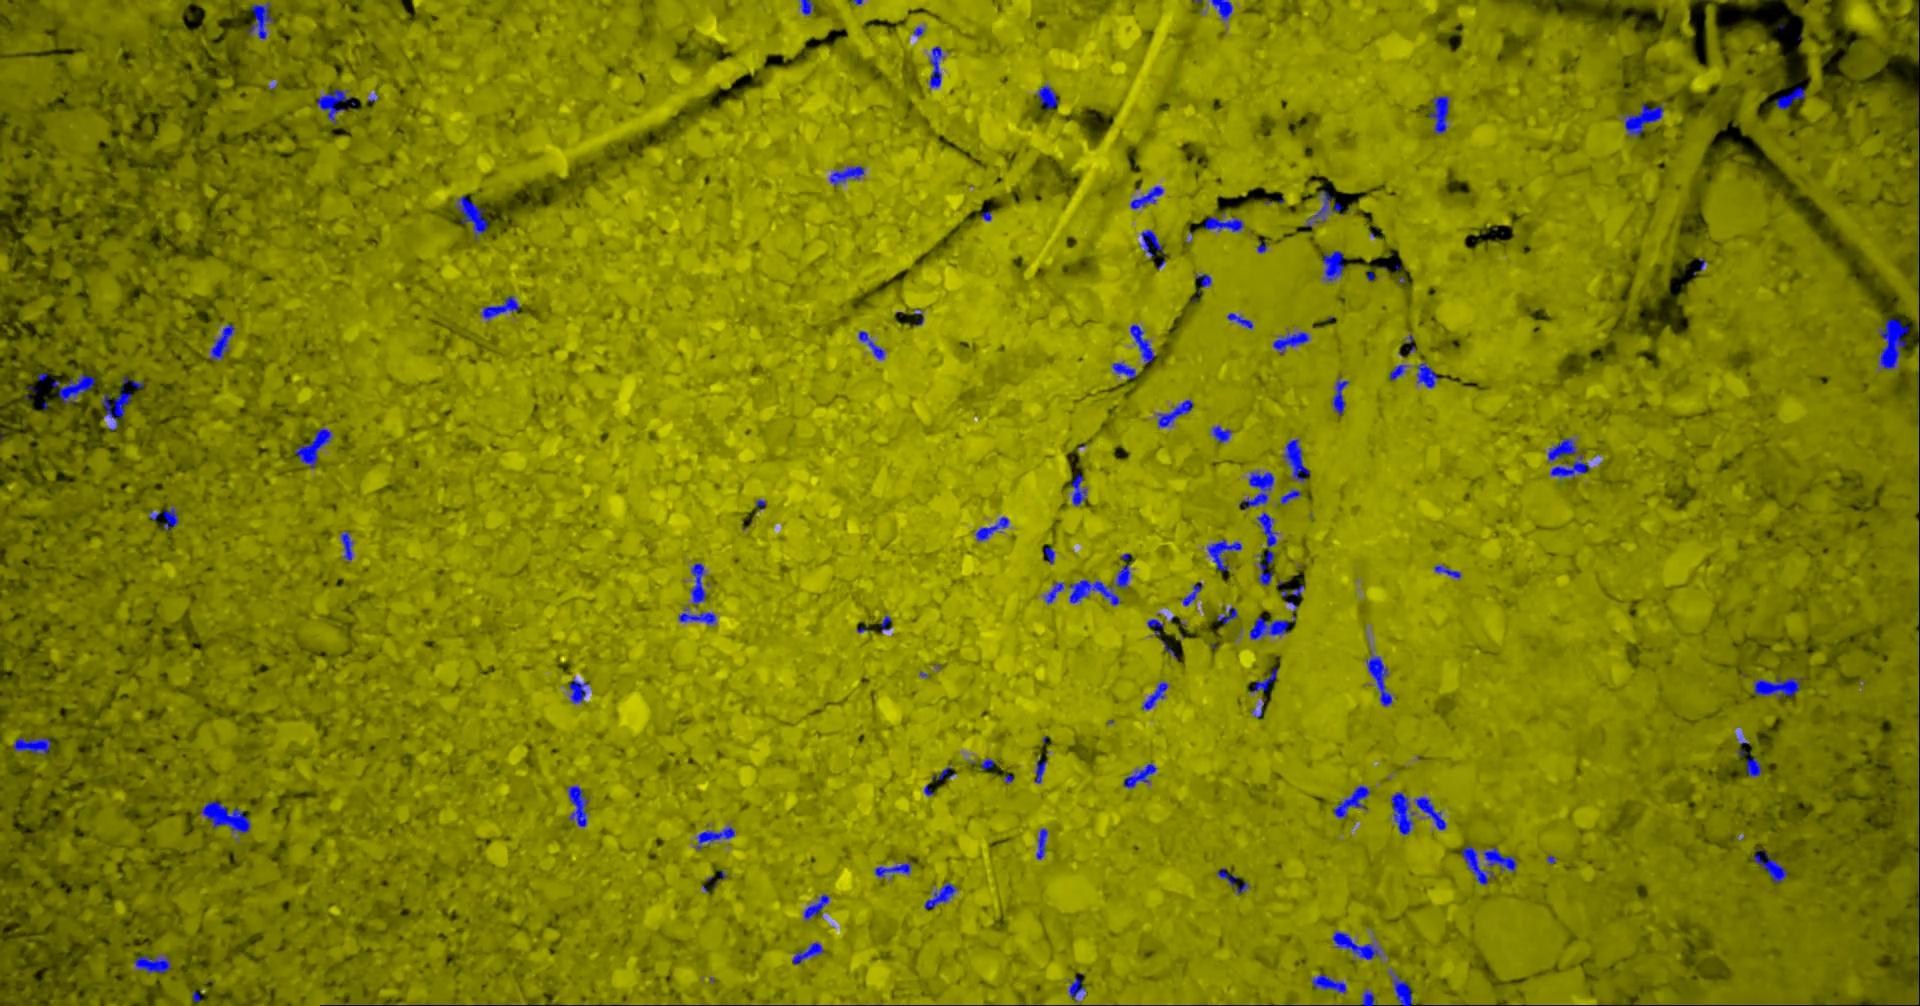ant: (102, 376, 146, 431), (1463, 845, 1517, 884), (1250, 600, 1299, 639), (202, 800, 251, 833), (1879, 318, 1910, 370), (1258, 511, 1279, 586), (1368, 650, 1394, 706), (1333, 930, 1383, 959), (456, 196, 489, 239), (1307, 189, 1345, 226), (317, 88, 357, 123), (297, 428, 333, 467), (52, 373, 97, 404), (1625, 103, 1665, 137), (1070, 579, 1123, 605), (1335, 784, 1371, 818), (1244, 470, 1275, 509), (1208, 539, 1243, 572), (1550, 453, 1592, 481), (1755, 848, 1789, 882), (1285, 438, 1310, 481), (1392, 791, 1417, 835), (1415, 796, 1448, 829), (1755, 676, 1803, 697), (697, 823, 737, 848), (1158, 399, 1194, 427), (210, 323, 236, 359), (250, 0, 276, 38), (924, 882, 959, 909), (1131, 324, 1156, 363), (483, 295, 521, 319), (1218, 868, 1251, 894), (569, 785, 590, 826), (1124, 762, 1158, 788), (1274, 332, 1310, 354), (977, 516, 1010, 541), (1390, 970, 1415, 1005), (1430, 95, 1451, 133), (860, 330, 886, 359), (691, 561, 709, 605), (1131, 185, 1164, 208), (792, 941, 825, 964), (1143, 681, 1170, 709), (14, 735, 52, 754), (830, 165, 866, 185), (1549, 437, 1578, 461), (1333, 376, 1351, 415), (1777, 86, 1807, 109), (1252, 667, 1279, 692), (805, 893, 830, 920), (1313, 974, 1349, 993), (1324, 250, 1346, 281), (150, 507, 180, 528), (135, 955, 171, 973), (1142, 229, 1163, 257), (1205, 216, 1244, 231), (1418, 362, 1441, 387), (931, 46, 945, 86), (1117, 553, 1134, 587), (681, 608, 717, 624), (1037, 84, 1060, 108), (876, 862, 913, 876), (1073, 473, 1088, 506), (1183, 580, 1204, 605), (570, 680, 590, 702), (1112, 361, 1138, 379), (1211, 0, 1234, 19), (1046, 580, 1065, 603), (1070, 973, 1087, 998), (1228, 312, 1255, 328), (342, 531, 354, 561), (1435, 564, 1462, 578), (1037, 827, 1049, 859), (1211, 426, 1233, 442), (1218, 606, 1239, 622), (1749, 752, 1763, 776), (933, 766, 957, 780), (1281, 488, 1302, 504), (1036, 757, 1048, 782), (1390, 365, 1408, 380), (1283, 584, 1305, 596), (1148, 619, 1164, 634), (1363, 988, 1378, 1005), (1196, 273, 1213, 287), (801, 0, 817, 14), (883, 615, 893, 633), (1045, 547, 1057, 563), (982, 757, 996, 768), (1919, 824, 1920, 892), (1919, 232, 1920, 293), (1919, 757, 1920, 815), (1919, 370, 1920, 426), (1919, 130, 1920, 184), (1919, 950, 1920, 1005)
